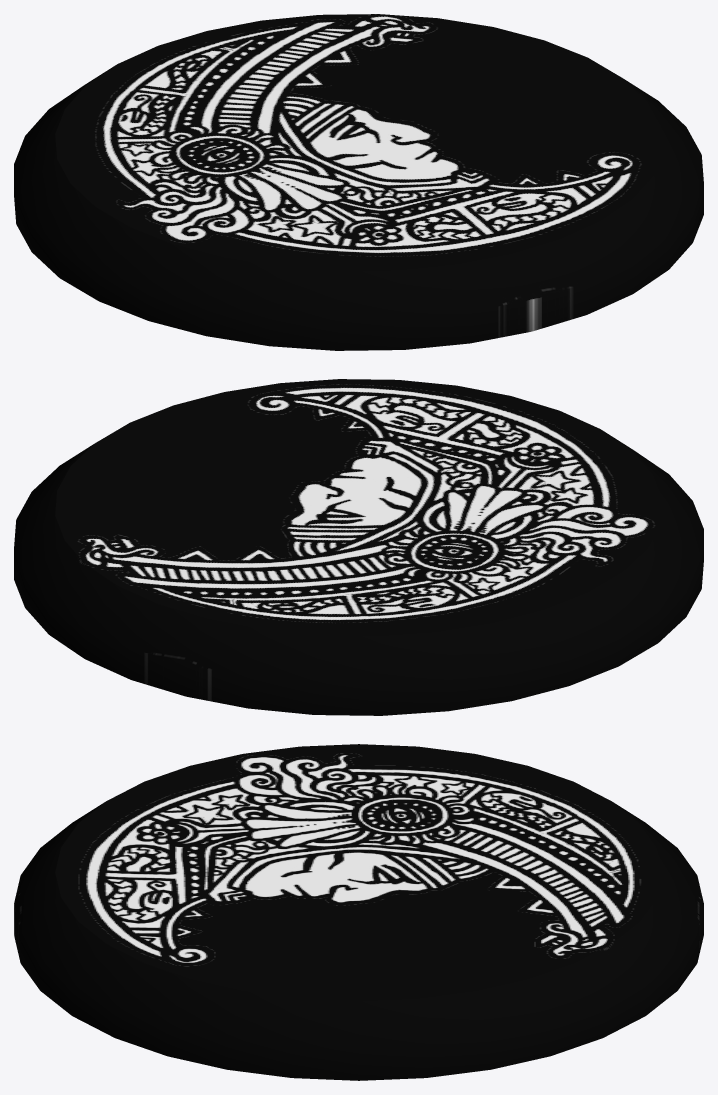
File: moon.fbx
3 views of the same model, one above another, from view 1: azimuth 30°, elevation 25°; view 2: azimuth 150°, elevation 25°; view 3: azimuth 270°, elevation 25° (orthographic).
Parts seen in each view (by area): view 1: Cylinder001; view 2: Cylinder001; view 3: Cylinder001.
Part boxes in pixels (bbox=[...]): Cylinder001: bbox=[14, 14, 703, 350]; Cylinder001: bbox=[14, 379, 703, 715]; Cylinder001: bbox=[14, 744, 703, 1080].
Bounding box in the file's own units: 0.0508 × 0.00508 × 0.0508.
1 material, 1 textured.
